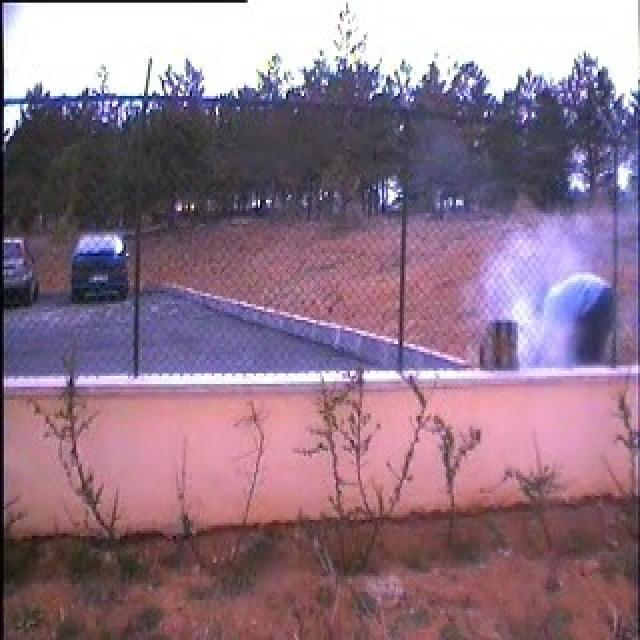Smoke: (483, 216, 591, 370)
